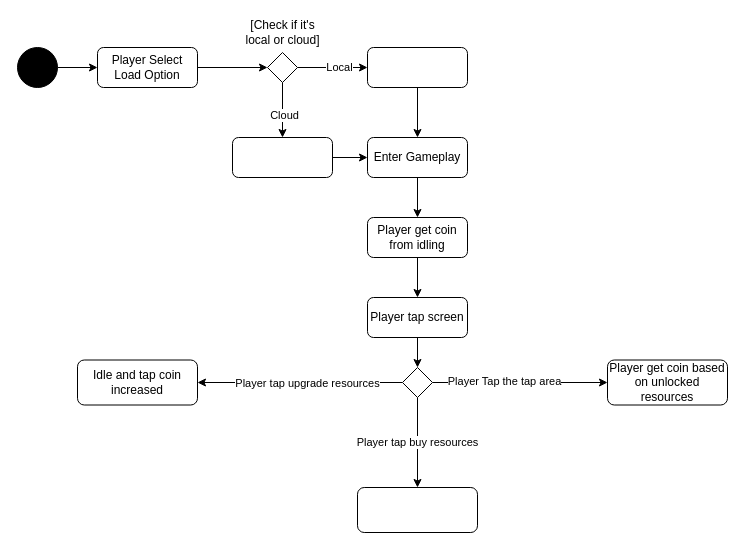
Image size: 745x550. Some labels were removed from this diagram. Here are the shapes that lost their labels. From the top down, the box of each, then its label:
(366, 46, 468, 88): Load from playerprefs
(232, 136, 332, 178): Load from firebase
(356, 486, 478, 532): Player unlocked new resources
